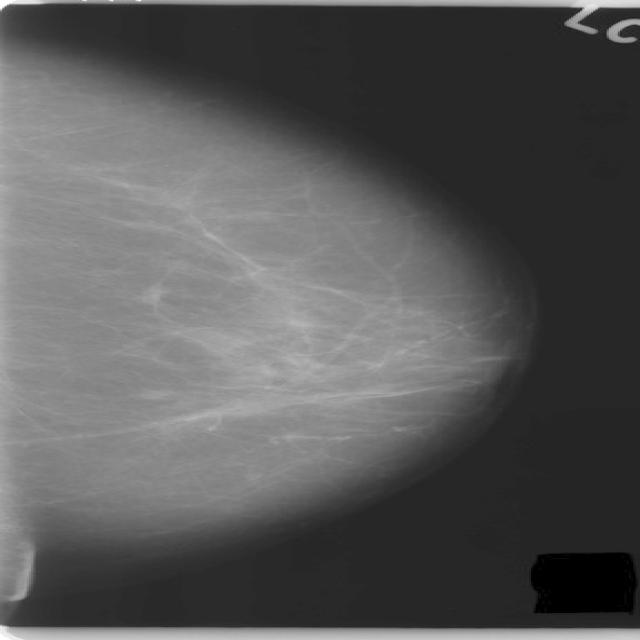tumour: (133, 280, 169, 306)
